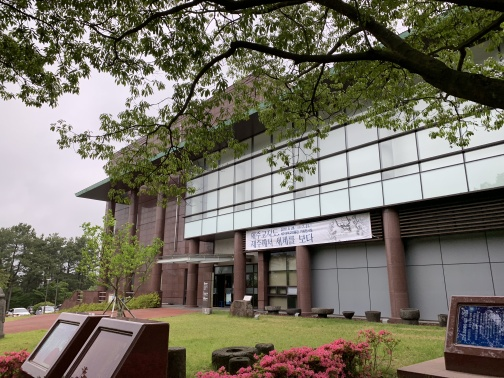Museum: (81, 112, 482, 329)
